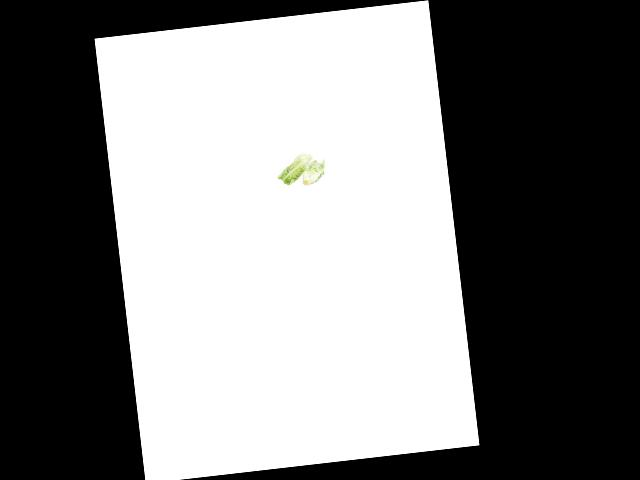lettuce: (298, 158, 328, 189)
